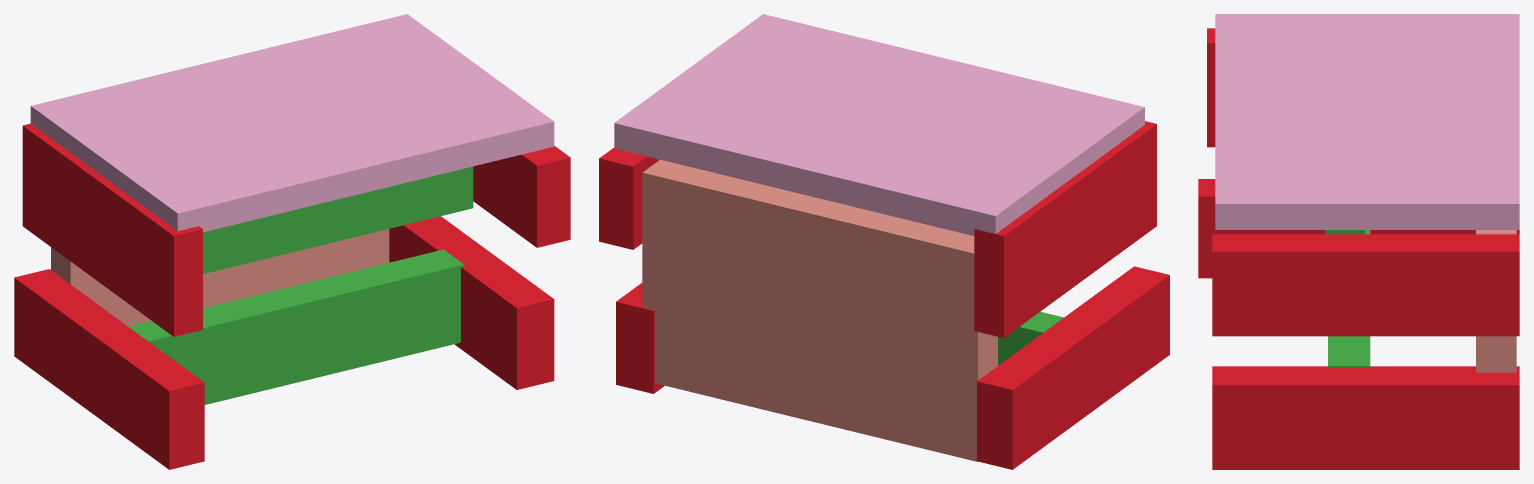
File: tinker.obj
The picture shows the model from 3 angles, left to right: view 1: azimuth 30°, elevation 25°; view 2: azimuth 150°, elevation 25°; view 3: azimuth 270°, elevation 25°; orthographic projection. The views are drawn at different scales.
Visible parts, largest first — view 1: group_0_15708628, group_0_15277357, group_0_4634441, group_0_15308428; view 2: group_0_15308428, group_0_15708628, group_0_15277357, group_0_4634441; view 3: group_0_15277357, group_0_15708628, group_0_15308428, group_0_4634441.
Boxes of the visible parts, x1=… form: group_0_15708628: x1=30, y1=14, x2=554, y2=232; group_0_15277357: x1=14, y1=123, x2=570, y2=469; group_0_4634441: x1=128, y1=166, x2=473, y2=404; group_0_15308428: x1=51, y1=229, x2=389, y2=326; group_0_15308428: x1=642, y1=159, x2=997, y2=461; group_0_15708628: x1=614, y1=14, x2=1144, y2=235; group_0_15277357: x1=599, y1=121, x2=1169, y2=469; group_0_4634441: x1=998, y1=311, x2=1063, y2=365; group_0_15277357: x1=1198, y1=28, x2=1519, y2=469; group_0_15708628: x1=1215, y1=14, x2=1519, y2=229; group_0_15308428: x1=1476, y1=230, x2=1516, y2=372; group_0_4634441: x1=1325, y1=230, x2=1370, y2=367.
Bounding box in the file's own units: 177 × 107 × 117.
